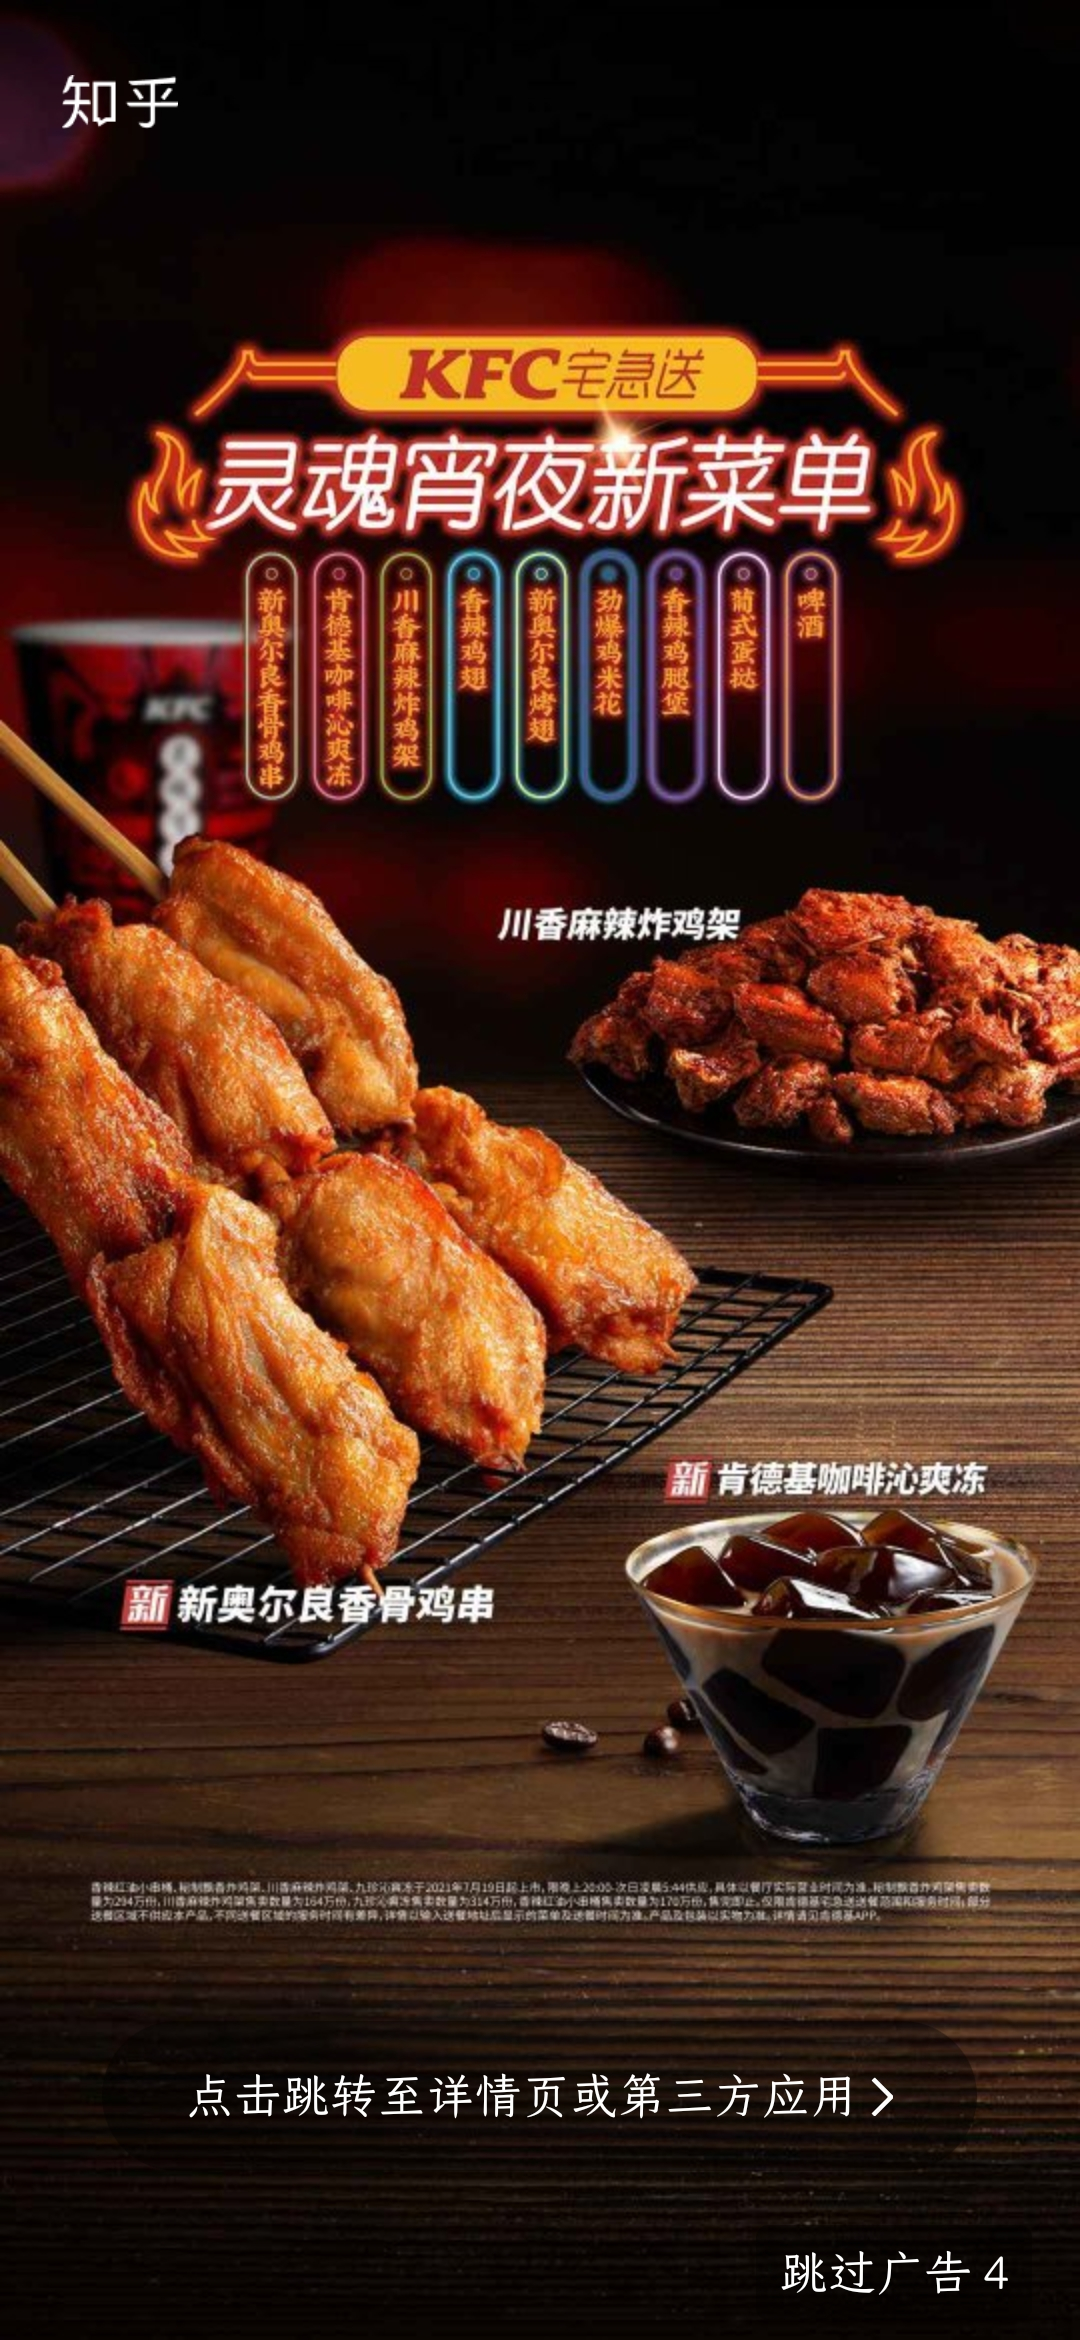skip: (752, 2233, 1031, 2312)
